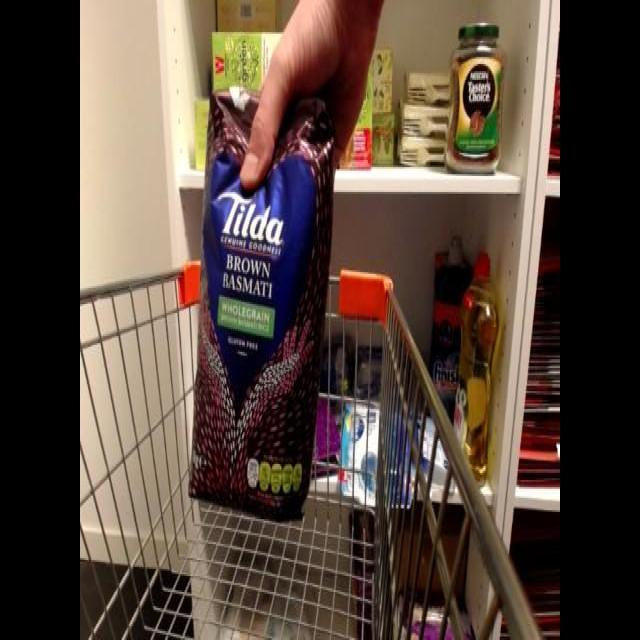Tida: (182, 78, 342, 523)
